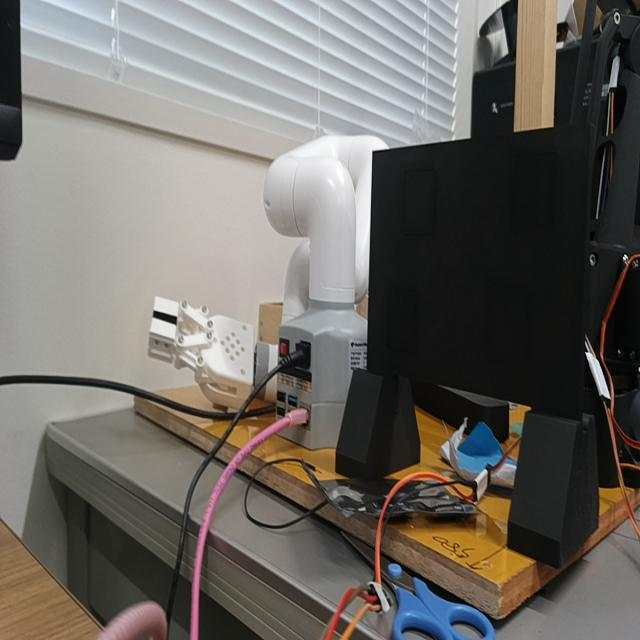Wall: (368, 127, 588, 420)
